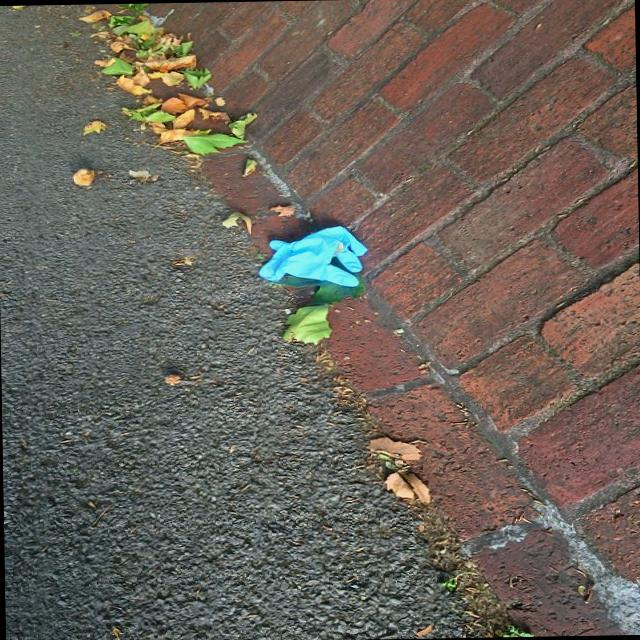Trash: (260, 218, 366, 290)
